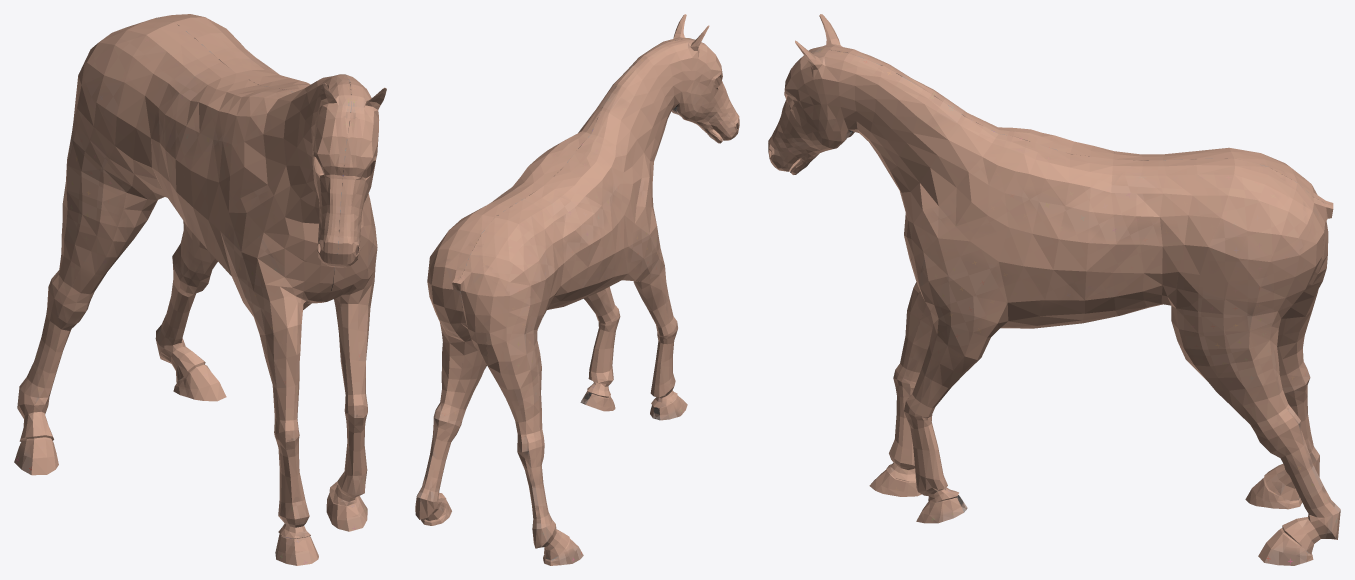
File: lowpoly_rigged_horse_color.dae
3 views of the same model, side by side, from view 1: azimuth 30°, elevation 25°; view 2: azimuth 150°, elevation 25°; view 3: azimuth 270°, elevation 25° (orthographic). The views are drawn at different scales.
Visible parts, largest first — view 1: horse_mesh; view 2: horse_mesh; view 3: horse_mesh.
Part boxes in pixels (x1,y1,x2,y2): horse_mesh: (14,14,386,565); horse_mesh: (415,14,739,565); horse_mesh: (768,14,1340,565).
Size of the model in its own units: 1.22 by 3.1 by 3.03.
Materials: 1 (1 with a texture image).
